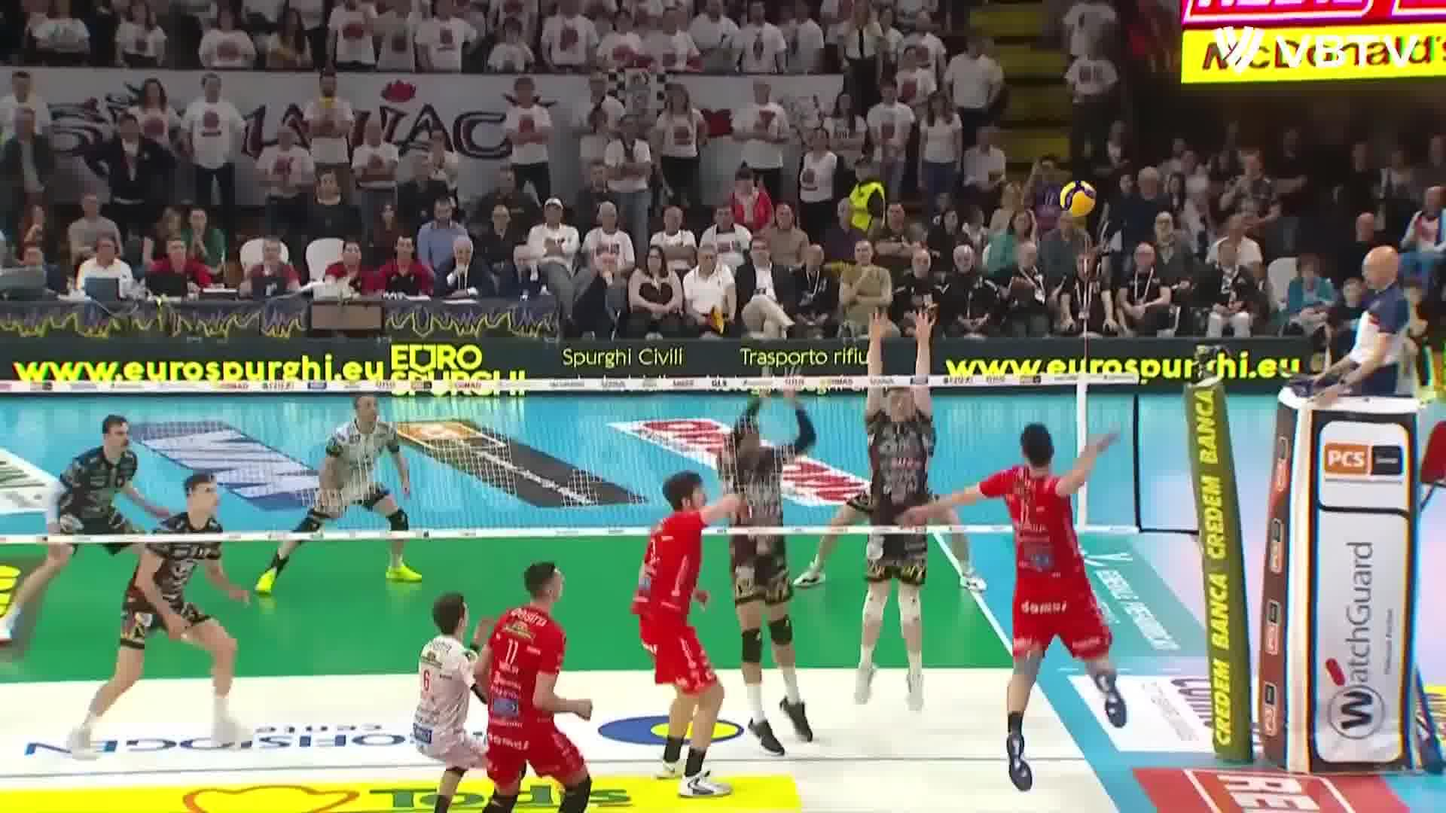balls: (1055, 175, 1100, 218)
